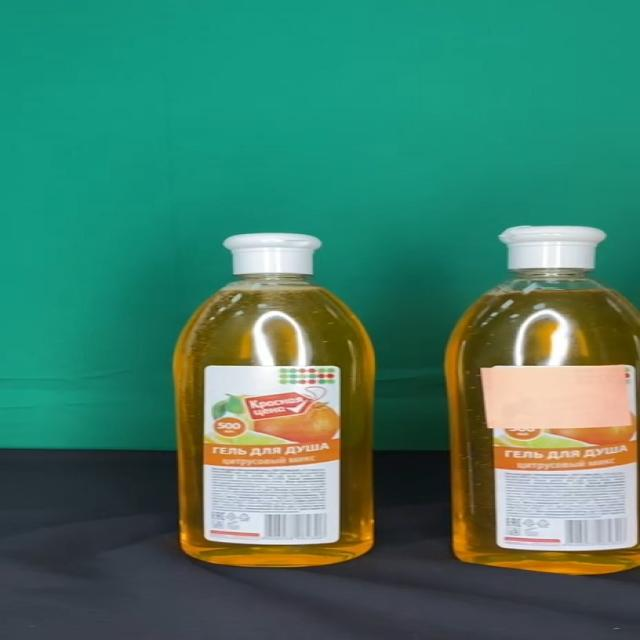Bottle: (443, 226, 640, 575), (176, 233, 375, 568)
Cap: (500, 226, 604, 270), (221, 234, 322, 275)
